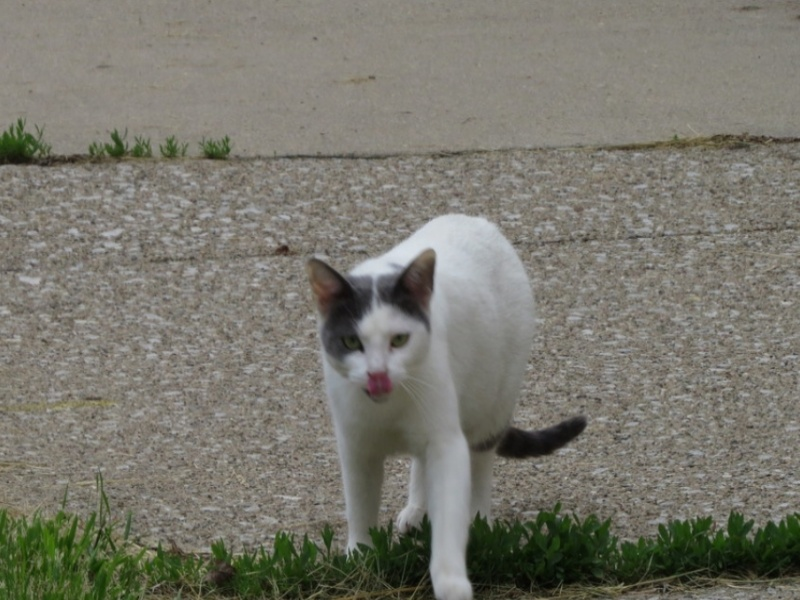cat: (304, 210, 590, 597)
